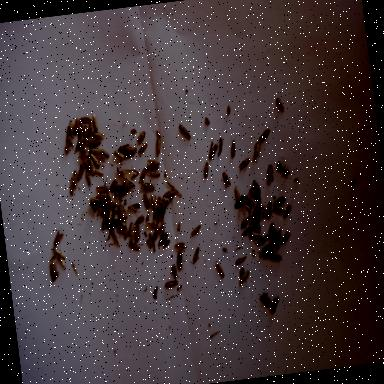pbw: (228, 130, 240, 158), (50, 226, 66, 246), (206, 136, 220, 158), (250, 213, 266, 230), (178, 122, 193, 140), (276, 158, 290, 176), (212, 258, 224, 278), (258, 289, 271, 307), (74, 162, 86, 181), (90, 150, 102, 169), (140, 179, 156, 193), (156, 230, 170, 246), (134, 130, 148, 146), (265, 162, 275, 184), (70, 168, 80, 190), (81, 151, 91, 173), (268, 219, 277, 243), (74, 120, 86, 138), (236, 156, 251, 170), (257, 126, 272, 140), (252, 139, 262, 160), (126, 201, 142, 214), (136, 166, 148, 183), (268, 295, 280, 312), (116, 203, 128, 220), (132, 222, 142, 242), (174, 252, 184, 272), (47, 262, 58, 280), (88, 194, 103, 207), (88, 154, 96, 178), (126, 240, 142, 252), (274, 230, 284, 249), (51, 244, 64, 258), (154, 196, 168, 209), (117, 224, 130, 238), (106, 220, 116, 238), (250, 184, 260, 202), (66, 174, 75, 194), (72, 116, 82, 134), (191, 246, 201, 264), (264, 198, 274, 216), (110, 227, 120, 245), (154, 134, 164, 152), (80, 122, 90, 140), (74, 131, 85, 147), (150, 206, 160, 223), (107, 189, 117, 206), (222, 169, 232, 186), (84, 120, 94, 137), (90, 204, 104, 216), (240, 224, 254, 236), (251, 209, 263, 223), (240, 196, 252, 210), (272, 202, 287, 213), (150, 225, 161, 240), (201, 160, 210, 178), (233, 183, 242, 201), (246, 230, 262, 240), (252, 178, 262, 194), (237, 266, 247, 282), (94, 149, 110, 159), (216, 135, 224, 155), (164, 278, 180, 288), (128, 219, 136, 239), (232, 254, 248, 264), (56, 252, 66, 268), (190, 222, 202, 235), (136, 142, 149, 154), (248, 205, 259, 219), (146, 167, 160, 178), (272, 198, 286, 209), (147, 194, 156, 211), (142, 191, 150, 210), (100, 216, 110, 231), (280, 229, 290, 244), (158, 218, 166, 236), (275, 96, 284, 112), (240, 214, 252, 226), (84, 168, 92, 186), (90, 113, 98, 131), (118, 186, 130, 198), (258, 244, 270, 256), (68, 118, 76, 136), (160, 237, 172, 249), (98, 208, 112, 218), (162, 187, 176, 197), (84, 136, 98, 146), (271, 195, 285, 205), (268, 252, 282, 262), (245, 192, 255, 206), (262, 248, 276, 258), (122, 144, 136, 154), (61, 140, 71, 154), (170, 262, 178, 279), (119, 211, 127, 228), (158, 205, 166, 222), (89, 144, 106, 152), (78, 114, 91, 124), (257, 234, 270, 244), (91, 128, 104, 138), (282, 203, 292, 216), (70, 260, 78, 276), (64, 124, 72, 140), (111, 203, 119, 219), (151, 285, 160, 299), (117, 142, 129, 152), (96, 184, 108, 194), (108, 178, 118, 190), (73, 138, 83, 150), (157, 194, 169, 204), (104, 216, 113, 229), (106, 206, 113, 222), (146, 163, 160, 171), (78, 138, 86, 152), (146, 158, 160, 166), (116, 181, 126, 192), (96, 191, 108, 200), (89, 139, 101, 148), (112, 148, 122, 158), (134, 214, 144, 224), (68, 134, 75, 148), (146, 220, 158, 228), (121, 148, 133, 156), (256, 200, 268, 208), (113, 183, 122, 193), (94, 166, 103, 176), (148, 232, 154, 246), (114, 218, 121, 230), (103, 198, 113, 206), (80, 148, 90, 156), (255, 222, 261, 235), (154, 127, 161, 138), (261, 207, 267, 219), (226, 104, 232, 115), (146, 238, 152, 248), (204, 114, 210, 124), (144, 214, 150, 222)
